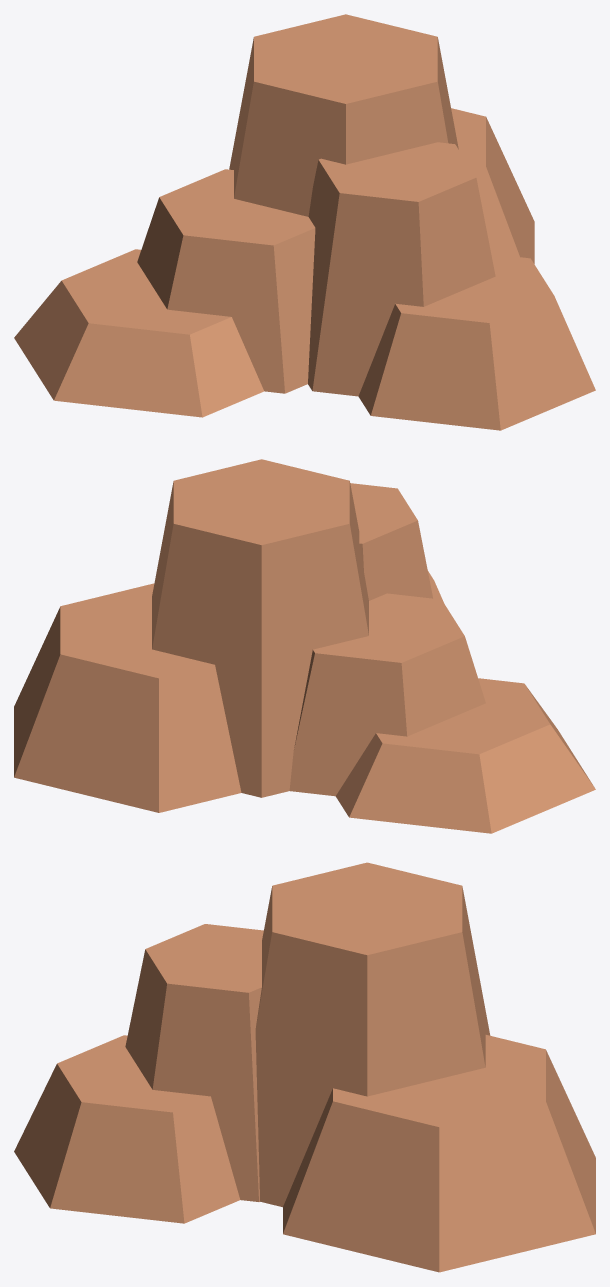
Rendered from resource-stone-large.obj.
The picture shows the model from 3 angles, top to bottom: view 1: azimuth 30°, elevation 25°; view 2: azimuth 150°, elevation 25°; view 3: azimuth 270°, elevation 25°; orthographic projection. The views are drawn at different scales.
Bounding box in the file's own units: 0.376 × 0.1602 × 0.3369.
